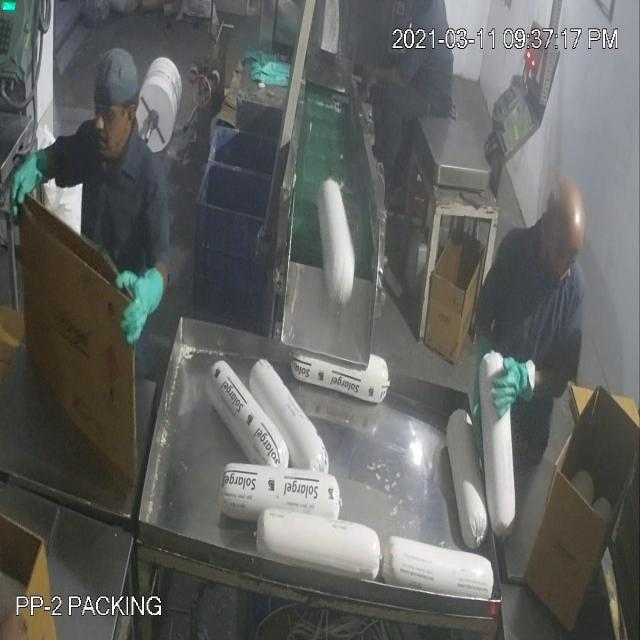Gloves: (38, 78, 512, 388)
